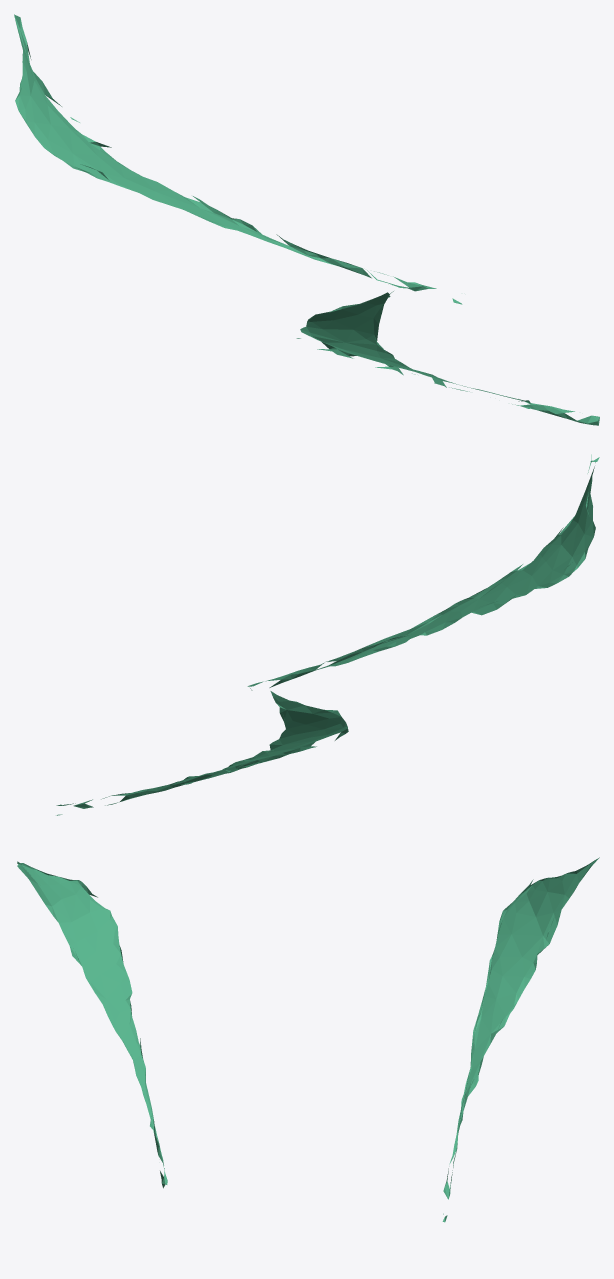
3 views of the same model, one above another, from view 1: azimuth 30°, elevation 25°; view 2: azimuth 150°, elevation 25°; view 3: azimuth 270°, elevation 25° (orthographic). The views are drawn at different scales.
Visible parts, largest first — view 1: 1085.obj; view 2: 1085.obj; view 3: 1085.obj.
Boxes of the visible parts, bbox=[...] form: 1085.obj: bbox=[14, 14, 599, 425]; 1085.obj: bbox=[56, 454, 599, 815]; 1085.obj: bbox=[17, 857, 599, 1222].
Size of the model in its own units: 2629 by 1880 by 3892.
